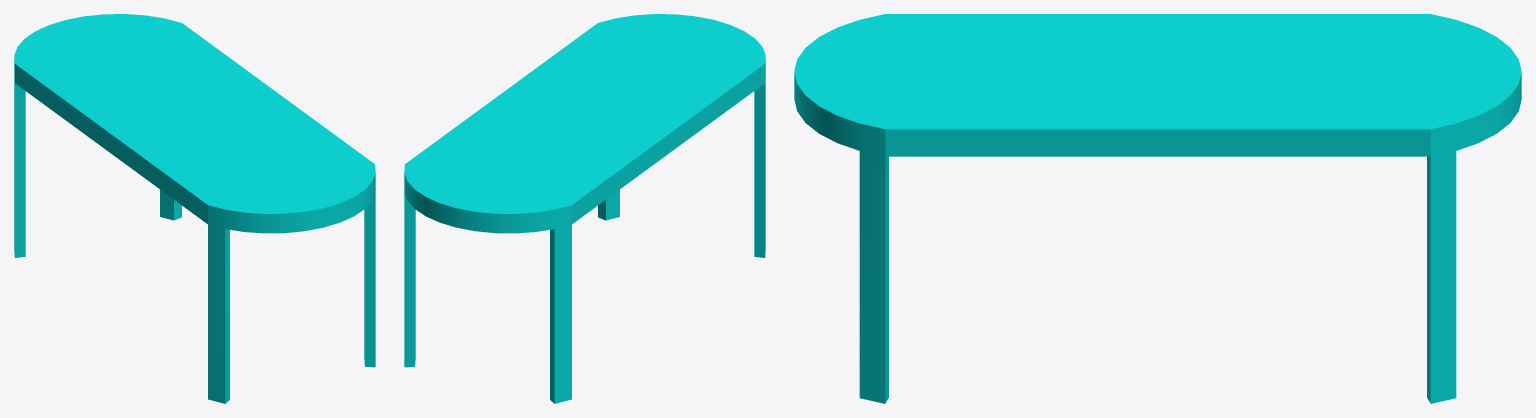
File: OM_3BHK_R_Dining_Table.fbx
3 renders of one model, left to right at view 1: azimuth 30°, elevation 25°; view 2: azimuth 150°, elevation 25°; view 3: azimuth 270°, elevation 25°, orthographic. The views are drawn at different scales.
Parts seen in each view (by area): view 1: OM_3BHK_R_Dining_Table; view 2: OM_3BHK_R_Dining_Table; view 3: OM_3BHK_R_Dining_Table.
Boxes of the visible parts, left/top/right/bottom form: OM_3BHK_R_Dining_Table: left=14, top=14, right=375, bottom=403; OM_3BHK_R_Dining_Table: left=404, top=14, right=765, bottom=403; OM_3BHK_R_Dining_Table: left=794, top=14, right=1521, bottom=403.
Size of the model in its own units: 3 by 3.33 by 8.
